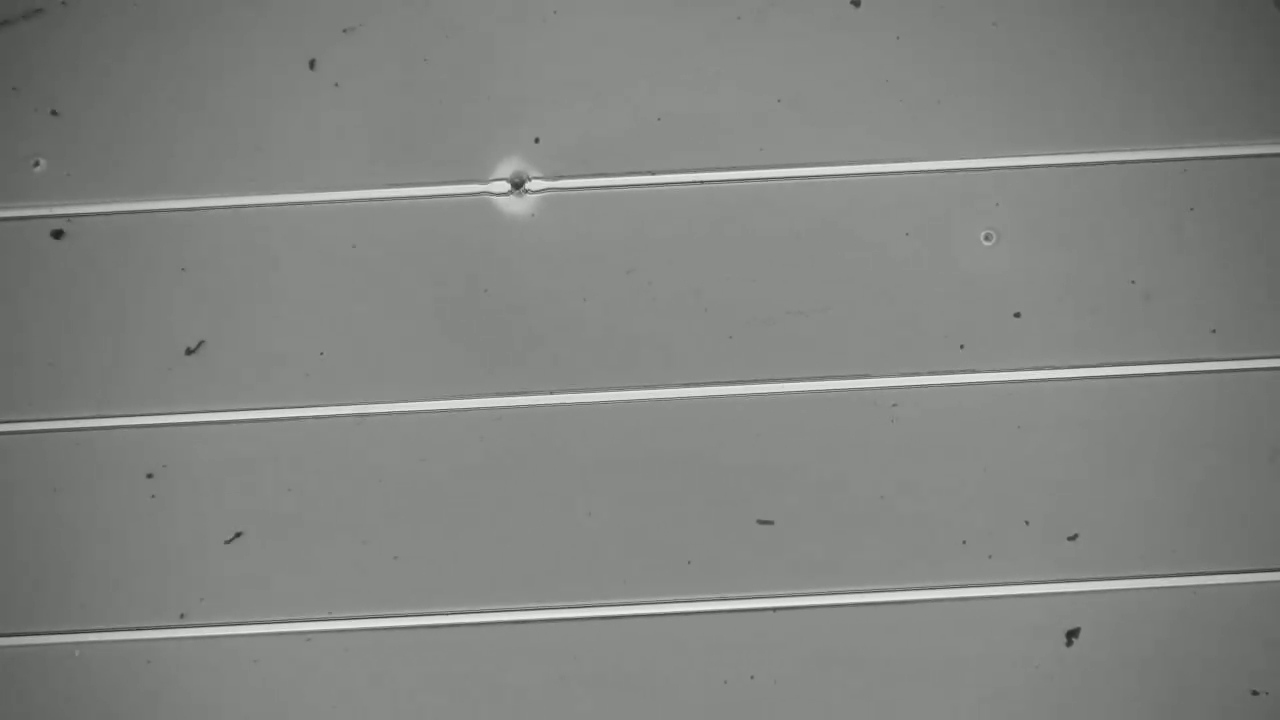stains_enbedded: (490, 164, 551, 204)
